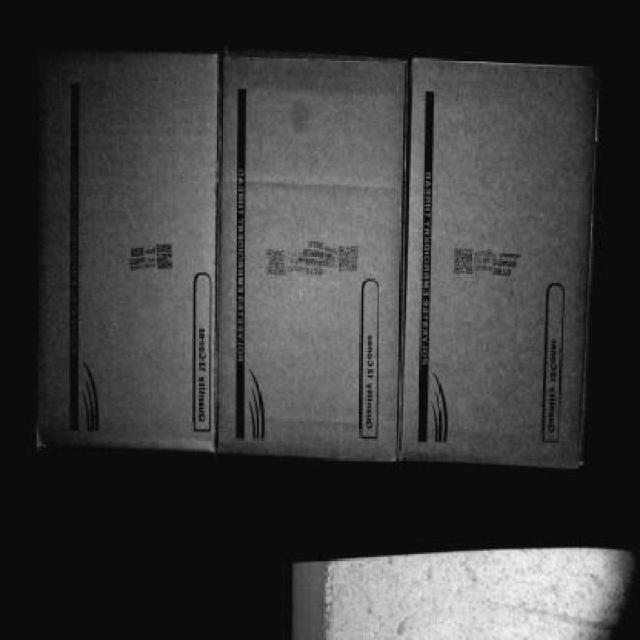cardboxes: (398, 65, 590, 457), (215, 65, 403, 460), (41, 51, 213, 442)
